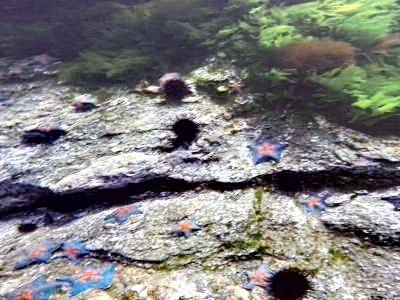urchin: (269, 270, 309, 295), (171, 117, 200, 141), (166, 78, 189, 101)
